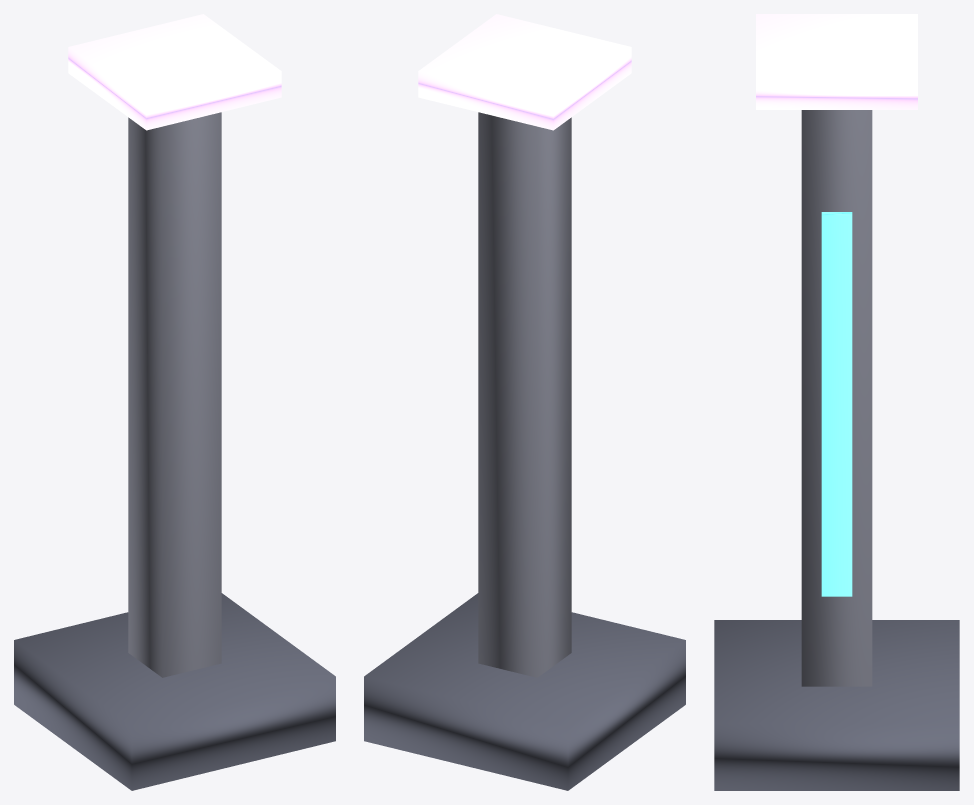
The model's file is parallax-baseline-pylon-lod2.glb.
3 renders of one model, left to right at view 1: azimuth 30°, elevation 25°; view 2: azimuth 150°, elevation 25°; view 3: azimuth 270°, elevation 25°, orthographic. The views are drawn at different scales.
Parts seen in each view (by area): view 1: parallax-baseline-pylon-spine, parallax-baseline-pylon-base, parallax-baseline-pylon-cap; view 2: parallax-baseline-pylon-spine, parallax-baseline-pylon-base, parallax-baseline-pylon-cap; view 3: parallax-baseline-pylon-base, parallax-baseline-pylon-spine, parallax-baseline-pylon-cap, parallax-baseline-pylon-reference-strip.
Part boxes in pixels (left/top/right/bottom): parallax-baseline-pylon-spine: left=128, top=112, right=221, bottom=677; parallax-baseline-pylon-base: left=14, top=593, right=335, bottom=790; parallax-baseline-pylon-cap: left=68, top=14, right=281, bottom=130; parallax-baseline-pylon-spine: left=478, top=112, right=571, bottom=677; parallax-baseline-pylon-base: left=364, top=593, right=685, bottom=790; parallax-baseline-pylon-cap: left=418, top=14, right=631, bottom=130; parallax-baseline-pylon-base: left=714, top=620, right=959, bottom=790; parallax-baseline-pylon-spine: left=801, top=110, right=872, bottom=686; parallax-baseline-pylon-cap: left=756, top=14, right=917, bottom=109; parallax-baseline-pylon-reference-strip: left=821, top=212, right=852, bottom=596.
Size of the model in its own units: 1.45 by 4.51 by 1.45.
